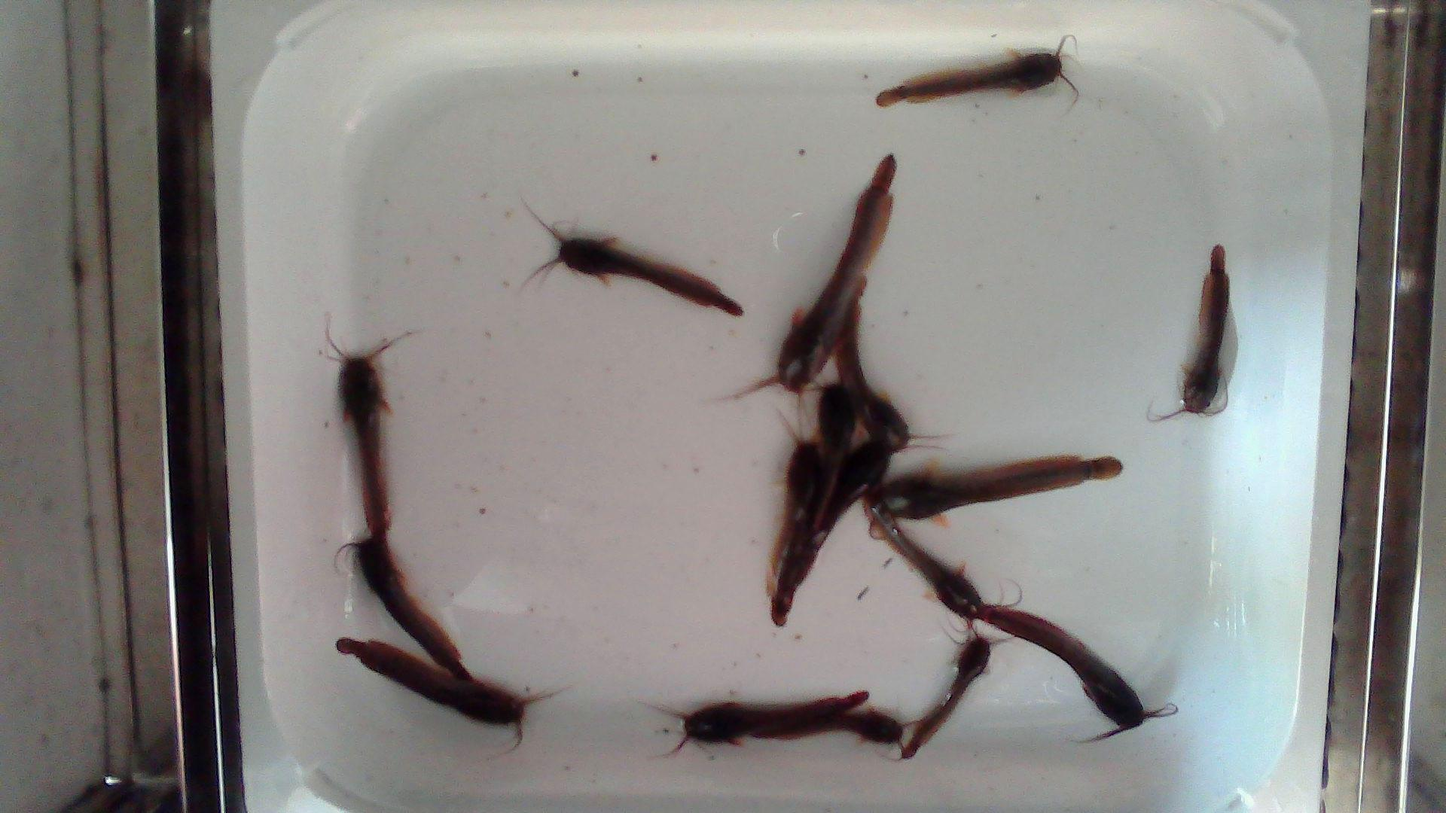lele: (733, 154, 895, 397), (333, 636, 573, 756), (979, 607, 1166, 740), (332, 535, 481, 685), (527, 213, 743, 315), (861, 487, 1005, 639), (323, 313, 416, 547), (837, 296, 955, 455), (877, 455, 1122, 519), (794, 437, 894, 593), (654, 689, 872, 756), (875, 35, 1077, 107), (790, 378, 855, 577), (1158, 245, 1229, 419), (766, 415, 822, 626), (900, 632, 990, 757), (757, 706, 912, 748)
